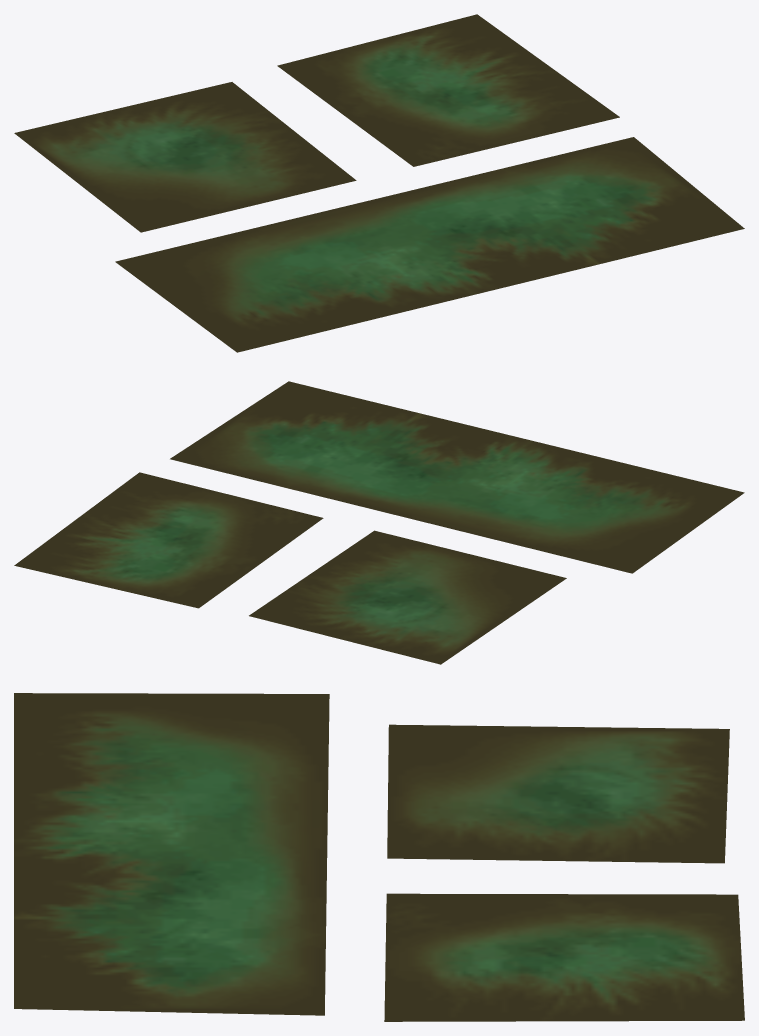
The model's file is FB7_ tuotie01.FBX.
The picture shows the model from 3 angles, top to bottom: view 1: azimuth 30°, elevation 25°; view 2: azimuth 150°, elevation 25°; view 3: azimuth 270°, elevation 25°; orthographic projection. The views are drawn at different scales.
Parts seen in each view (by area): view 1: FB7_dibiaotuotie01_003, FB7_dibiaotuotie01_001, FB7_dibiaotuotie01_002; view 2: FB7_dibiaotuotie01_003, FB7_dibiaotuotie01_001, FB7_dibiaotuotie01_002; view 3: FB7_dibiaotuotie01_003, FB7_dibiaotuotie01_001, FB7_dibiaotuotie01_002.
Part boxes in pixels (x1,y1,x2,y2): FB7_dibiaotuotie01_003: [115, 137, 744, 352]; FB7_dibiaotuotie01_001: [14, 82, 356, 232]; FB7_dibiaotuotie01_002: [277, 14, 619, 166]; FB7_dibiaotuotie01_003: [170, 381, 744, 573]; FB7_dibiaotuotie01_001: [249, 530, 566, 664]; FB7_dibiaotuotie01_002: [14, 472, 323, 608]; FB7_dibiaotuotie01_003: [14, 693, 329, 1015]; FB7_dibiaotuotie01_001: [387, 724, 729, 863]; FB7_dibiaotuotie01_002: [384, 893, 744, 1021].
Size of the model in its own units: 677 by 9.9e-05 by 636.
Materials: 1 (1 with a texture image).
